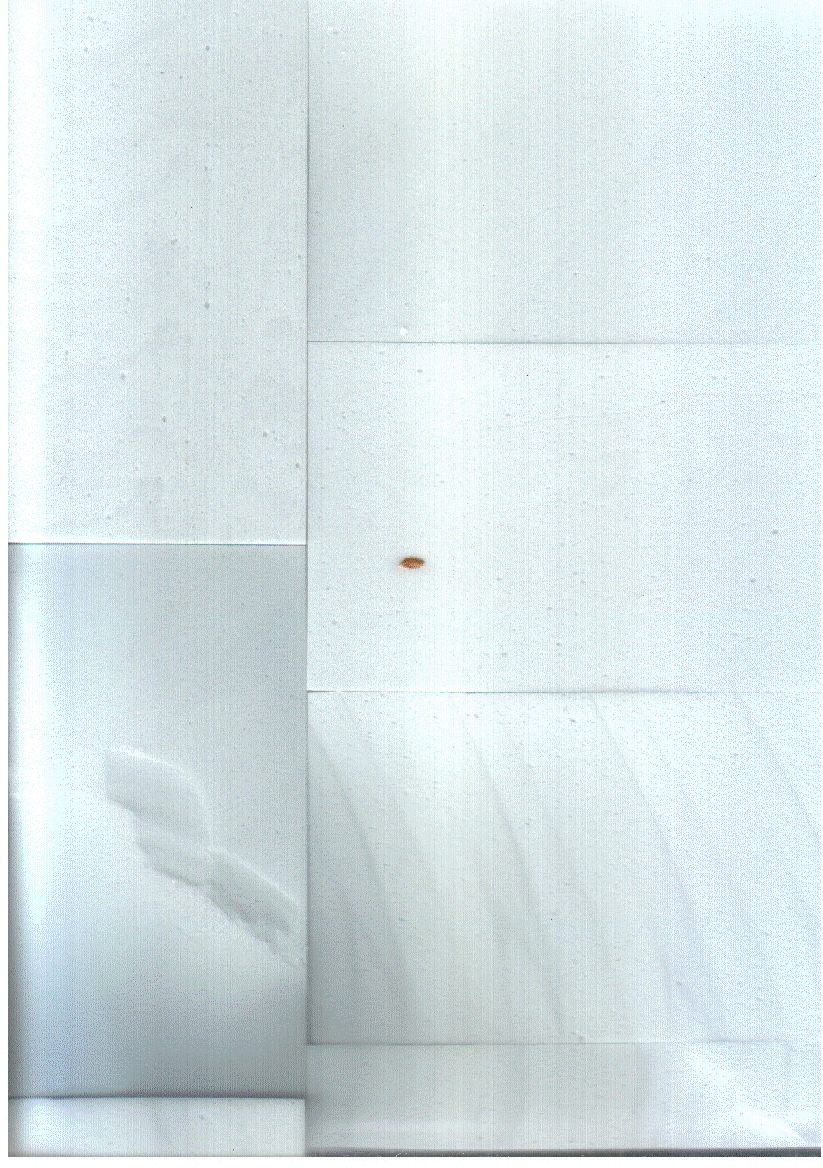grains: (391, 538, 434, 586)
